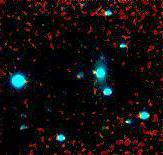star: (79, 57, 109, 87)
